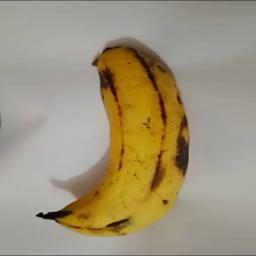Banana Semifresh: (34, 44, 193, 242)
